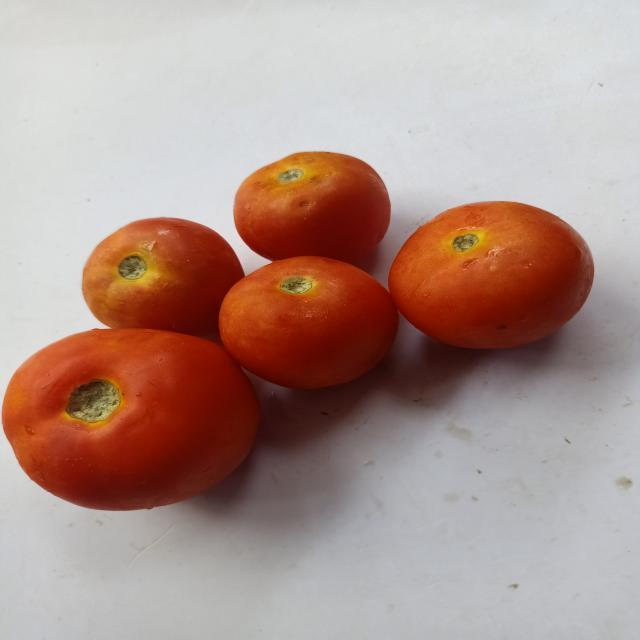Tomato: (0, 328, 269, 527), (384, 192, 605, 362), (213, 252, 398, 397), (72, 214, 248, 337), (225, 147, 396, 265)
